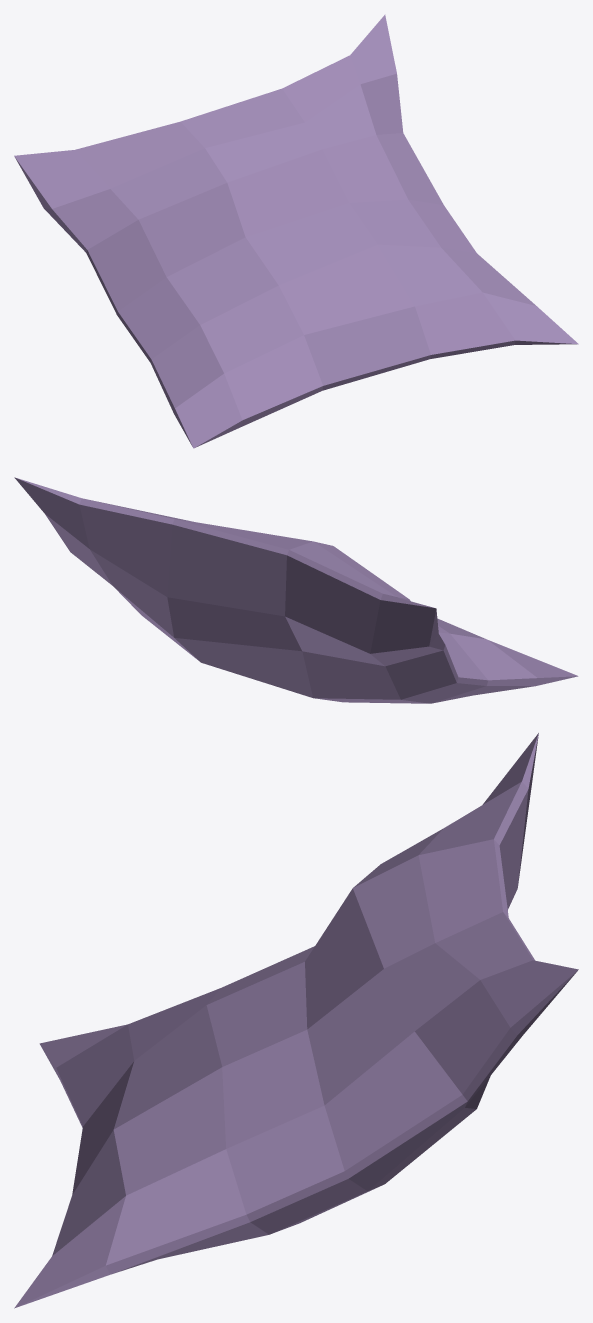
File: Office_Pillow_2.fbx
The picture shows the model from 3 angles, top to bottom: view 1: azimuth 30°, elevation 25°; view 2: azimuth 150°, elevation 25°; view 3: azimuth 270°, elevation 25°; orthographic projection. The views are drawn at different scales.
Visible parts, largest first — view 1: Office_Pillow_2; view 2: Office_Pillow_2; view 3: Office_Pillow_2.
Part boxes in pixels (<box>): Office_Pillow_2: <box>14,14,578,448</box>; Office_Pillow_2: <box>14,477,578,703</box>; Office_Pillow_2: <box>14,733,578,1308</box>.
Bounding box in the file's own units: 41.89 × 32.08 × 23.02.
